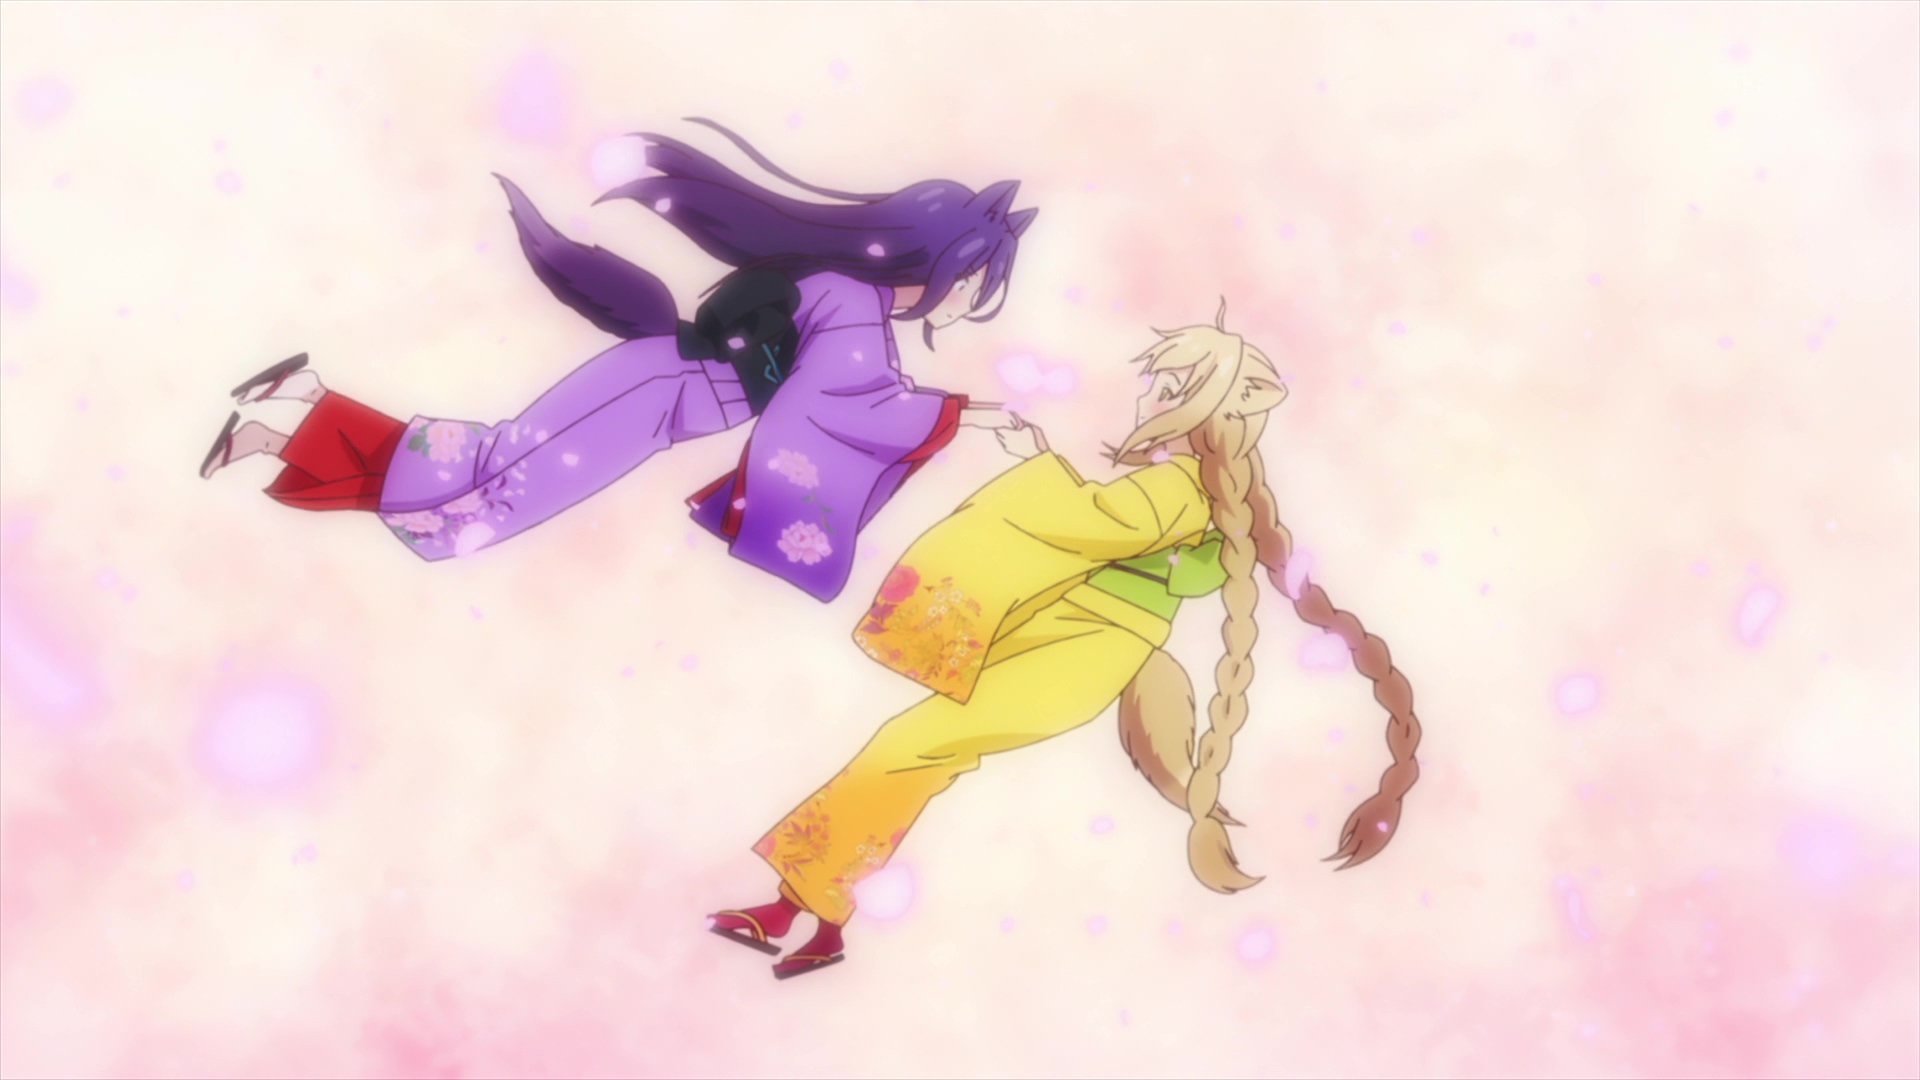柚: (708, 298, 1419, 982)
皋: (199, 116, 1036, 604)
